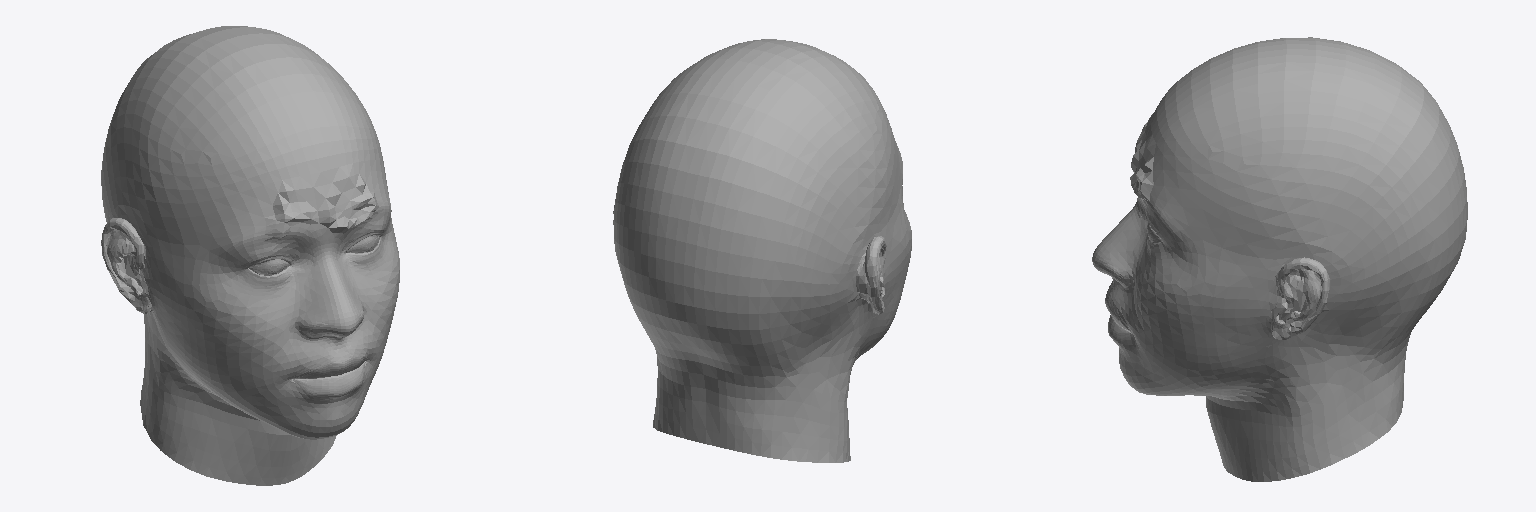
File: White Girl Face5.obj
3 views of the same model, side by side, from view 1: azimuth 30°, elevation 25°; view 2: azimuth 150°, elevation 25°; view 3: azimuth 270°, elevation 25° (orthographic).
Visible parts, largest first — view 1: HeadHires; view 2: HeadHires; view 3: HeadHires.
Boxes of the visible parts, box(x1,y1,x2,y2) form: HeadHires: box(101, 26, 399, 485); HeadHires: box(613, 39, 911, 462); HeadHires: box(1092, 37, 1467, 481).
Bounding box in the file's own units: 189 × 283 × 233.